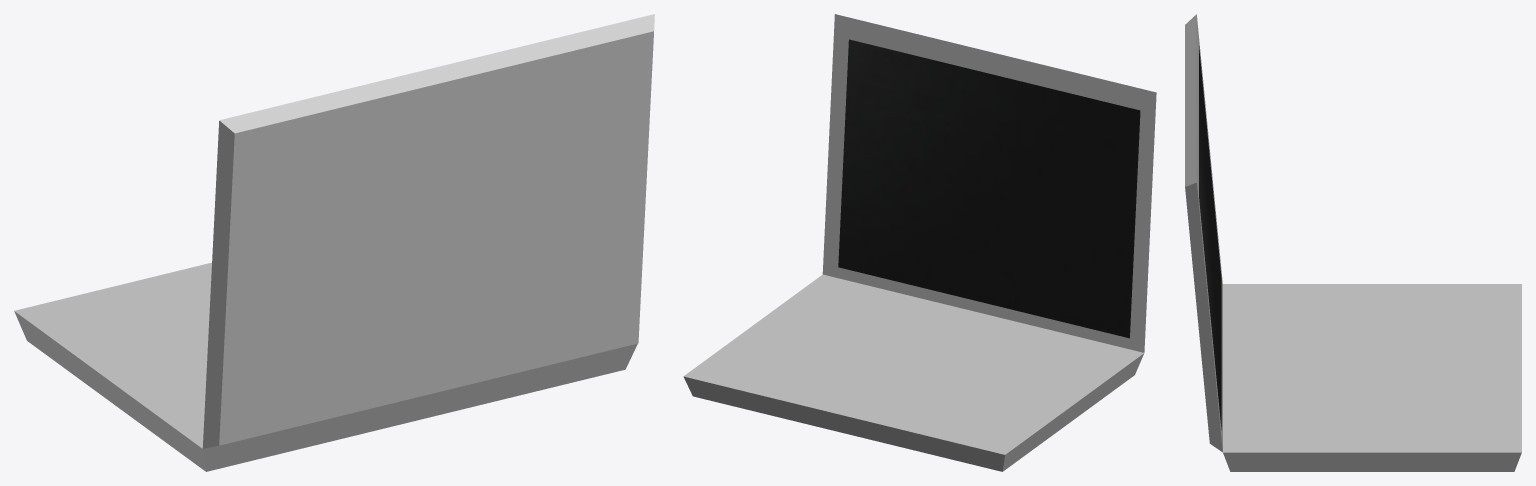
File: laptop.fbx
3 renders of one model, left to right at view 1: azimuth 30°, elevation 25°; view 2: azimuth 150°, elevation 25°; view 3: azimuth 270°, elevation 25°, orthographic. The views are drawn at different scales.
Visible parts, largest first — view 1: mesh_1, mesh; view 2: mesh_1, mesh; view 3: mesh, mesh_1.
Boxes of the visible parts, box(x1,y1,x2,y2) form: mesh_1: box(202, 14, 654, 448); mesh: box(14, 262, 637, 471); mesh_1: box(822, 14, 1156, 352); mesh: box(683, 274, 1144, 471); mesh: box(1223, 284, 1521, 471); mesh_1: box(1185, 14, 1222, 452).
Size of the model in its own units: 100 by 80.96 by 84.49.
